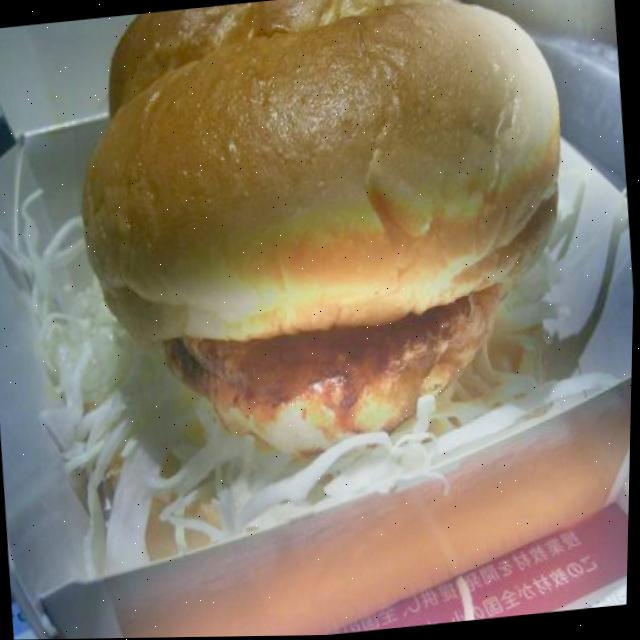汉堡快餐: (96, 0, 585, 484)
